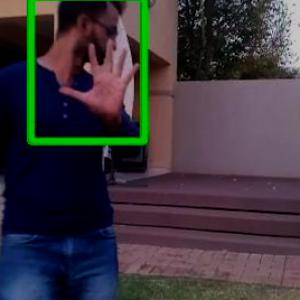follow_hand: (58, 33, 146, 123)
